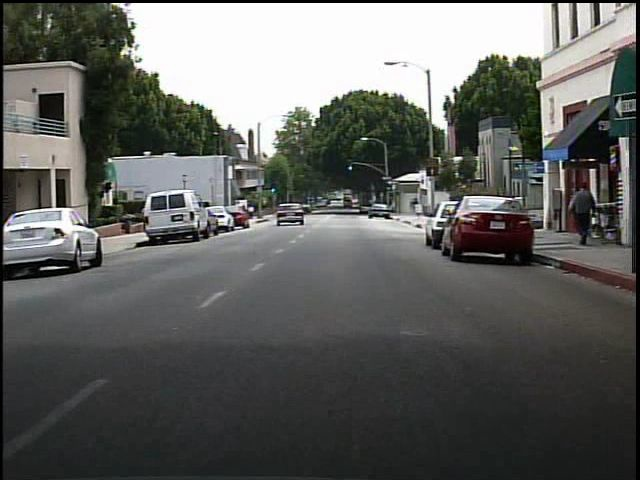person: (565, 181, 600, 248)
